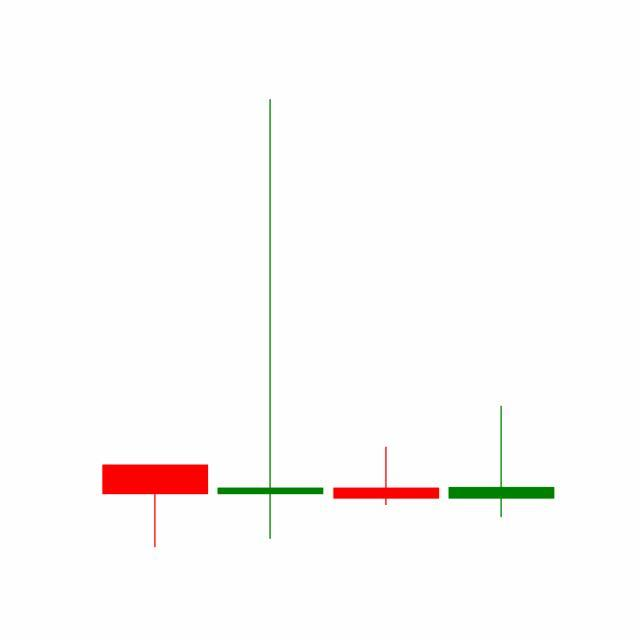Gravestone Doji: (329, 446, 445, 507)
